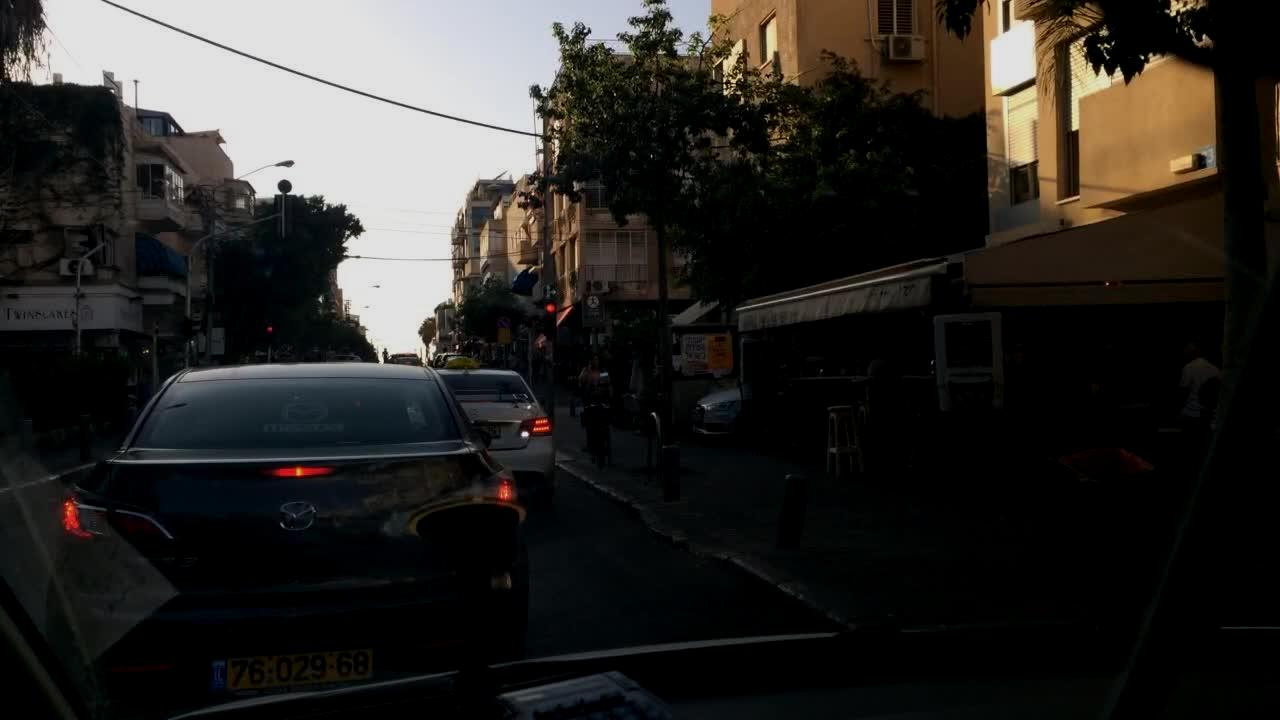Mazda: (273, 492, 320, 539)
